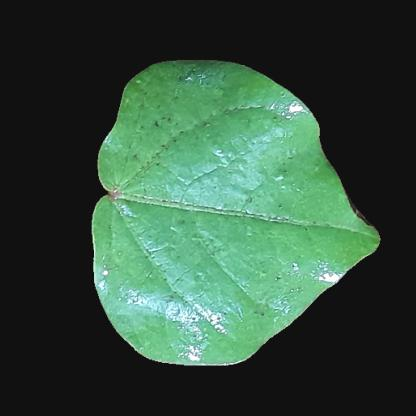healthy: (108, 119, 313, 303), (141, 302, 281, 349), (154, 74, 266, 118), (317, 204, 347, 283)
